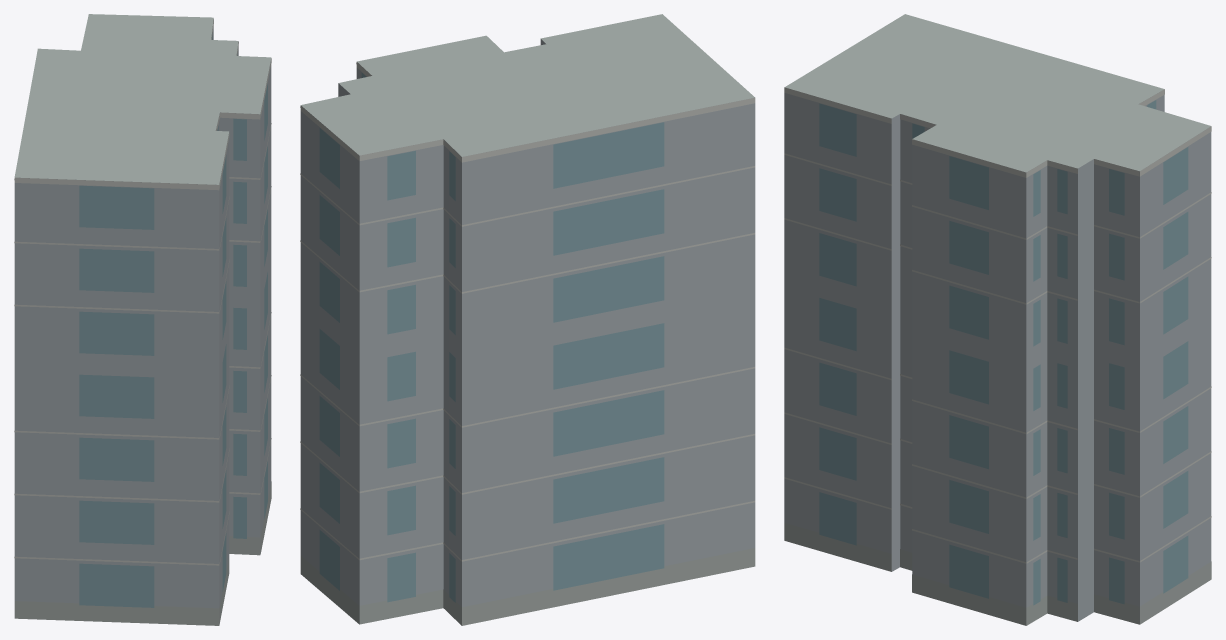
Rendered from survey-upis-32685273.glb.
The picture shows the model from 3 angles, left to right: view 1: azimuth 30°, elevation 25°; view 2: azimuth 150°, elevation 25°; view 3: azimuth 270°, elevation 25°; orthographic projection. The views are drawn at different scales.
Parts seen in each view (by area): view 1: survey-upis-32685273.tmp; view 2: survey-upis-32685273.tmp; view 3: survey-upis-32685273.tmp.
Part boxes in pixels (x1,y1,x2,y2): survey-upis-32685273.tmp: (14,14,271,625); survey-upis-32685273.tmp: (300,14,755,625); survey-upis-32685273.tmp: (784,14,1211,625).
Bounding box in the file's own units: 15.17 × 20.2 × 17.26.
